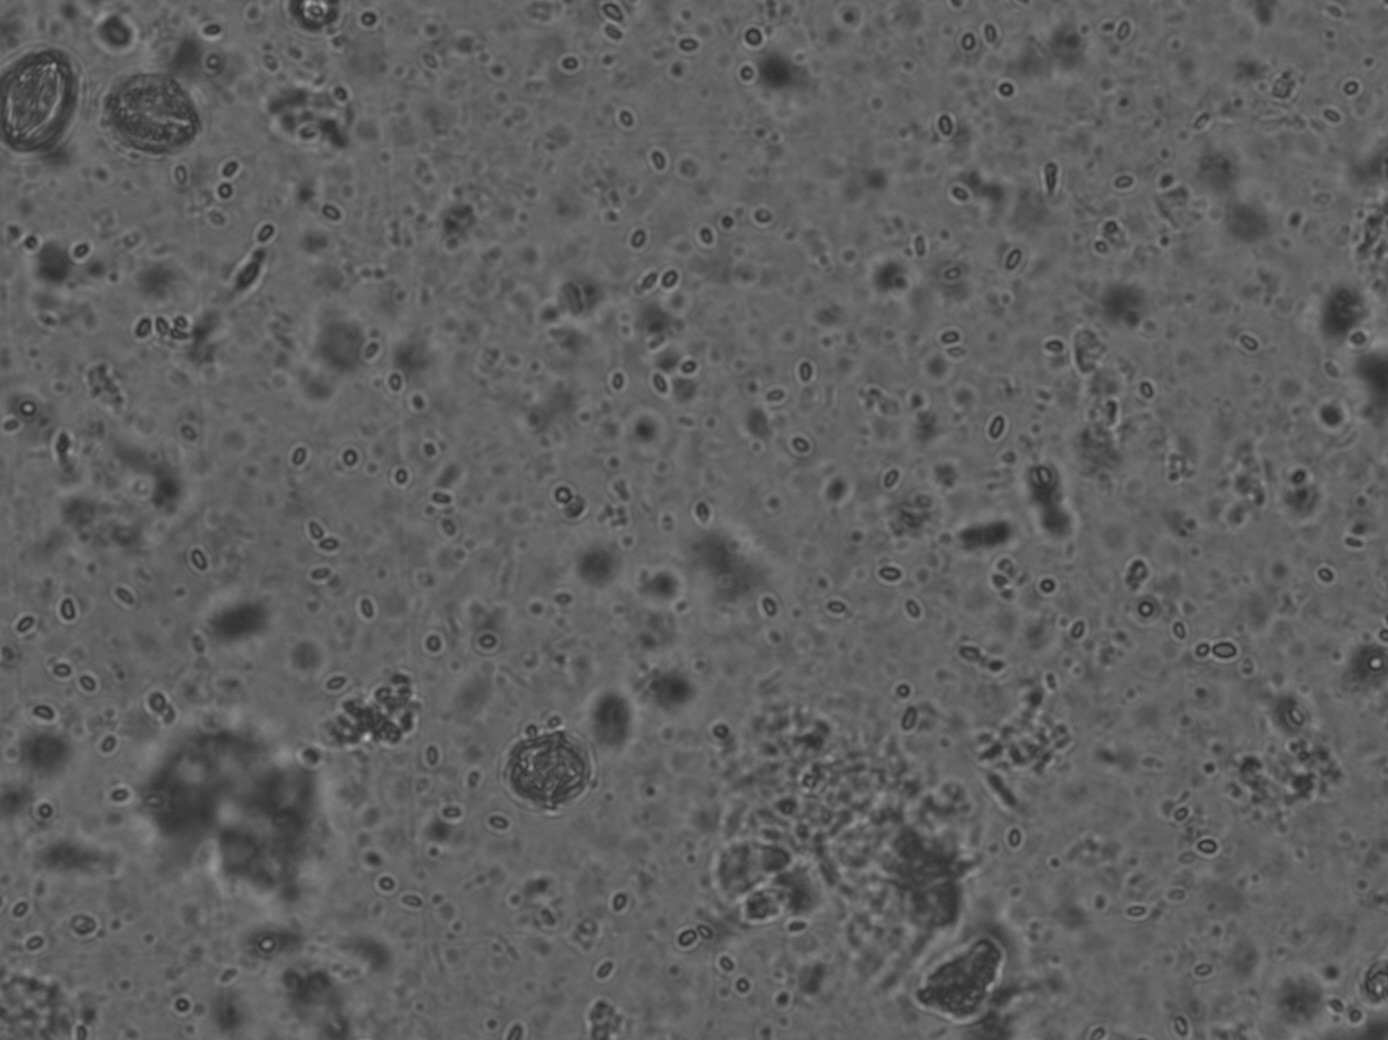spore: (896, 702, 925, 733), (1001, 245, 1025, 273), (187, 545, 210, 573), (318, 200, 344, 224), (788, 433, 812, 456), (13, 612, 37, 635), (75, 671, 99, 694), (1236, 331, 1261, 353), (112, 583, 135, 606), (177, 421, 200, 444), (880, 466, 902, 490), (305, 518, 326, 543), (602, 1, 625, 23), (97, 732, 119, 755), (609, 889, 630, 913), (628, 226, 648, 251), (219, 158, 241, 180), (9, 898, 31, 920), (361, 339, 382, 362), (902, 597, 923, 620), (1287, 706, 1308, 728), (676, 928, 699, 948), (1114, 19, 1133, 43), (650, 371, 669, 395), (936, 112, 954, 137), (1340, 77, 1361, 98), (1136, 378, 1156, 400), (22, 933, 45, 952), (324, 673, 347, 692), (486, 813, 510, 831), (59, 597, 76, 622), (616, 107, 636, 128), (33, 703, 56, 721), (400, 892, 424, 909), (996, 79, 1016, 99), (71, 240, 91, 260), (596, 960, 615, 981), (1170, 619, 1188, 641), (291, 445, 308, 468), (694, 500, 711, 523), (429, 490, 453, 506), (135, 317, 153, 338), (1321, 106, 1342, 124), (257, 222, 274, 244), (988, 416, 1005, 438), (1212, 643, 1238, 657), (717, 954, 736, 973), (694, 923, 714, 941), (761, 596, 778, 617), (1070, 619, 1087, 640), (1193, 962, 1215, 978), (1173, 1016, 1189, 1038), (1180, 850, 1202, 866), (309, 565, 331, 581), (879, 566, 902, 581), (421, 52, 440, 70), (1317, 566, 1336, 584), (662, 269, 679, 289), (604, 24, 624, 41), (678, 358, 698, 375), (359, 597, 375, 618), (764, 387, 785, 403), (465, 768, 481, 789), (1036, 467, 1053, 486), (154, 316, 170, 336), (109, 787, 129, 803), (1194, 113, 1212, 130), (286, 44, 304, 61), (698, 227, 714, 246), (53, 662, 72, 678), (951, 187, 970, 203), (174, 165, 189, 185), (1031, 469, 1046, 489), (1194, 641, 1211, 658), (642, 272, 658, 290), (651, 151, 666, 170), (798, 361, 812, 381), (441, 805, 461, 819), (319, 538, 340, 551), (1173, 806, 1190, 822), (217, 182, 233, 199), (944, 267, 962, 282), (828, 600, 847, 614), (1125, 905, 1147, 917), (425, 745, 438, 765), (265, 57, 279, 75), (1116, 175, 1134, 189), (941, 331, 960, 344), (1198, 840, 1217, 853), (1008, 828, 1021, 847), (146, 795, 166, 807), (611, 372, 624, 390), (963, 32, 975, 51), (479, 636, 497, 648), (395, 468, 408, 484), (390, 373, 401, 391), (1166, 891, 1185, 901), (985, 25, 996, 42), (681, 39, 697, 50), (916, 236, 925, 255), (202, 25, 219, 35), (946, 347, 962, 357), (1047, 341, 1063, 351)
